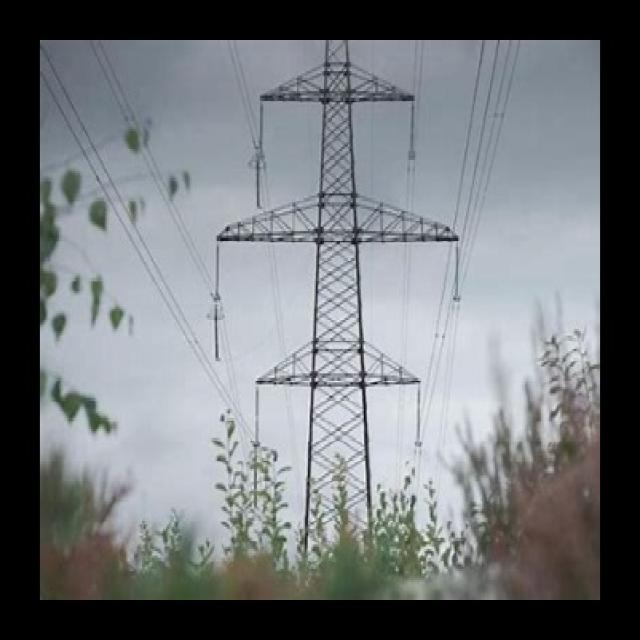utility poles: (202, 322, 484, 595)
